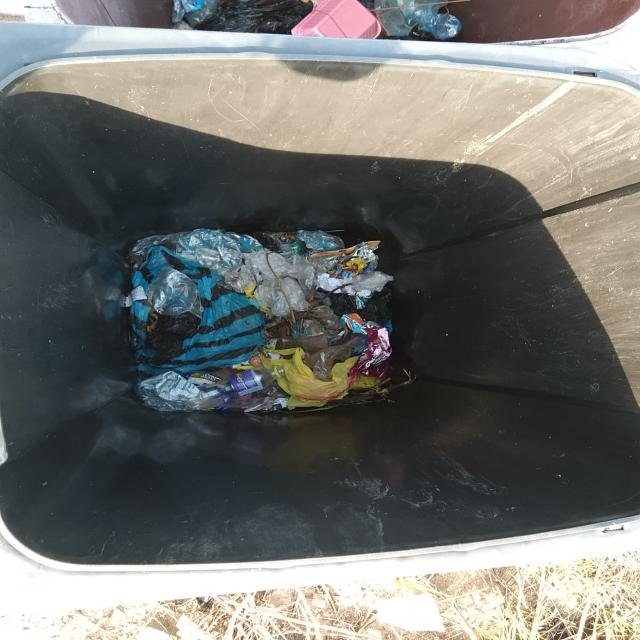half-full: (10, 48, 640, 578)
